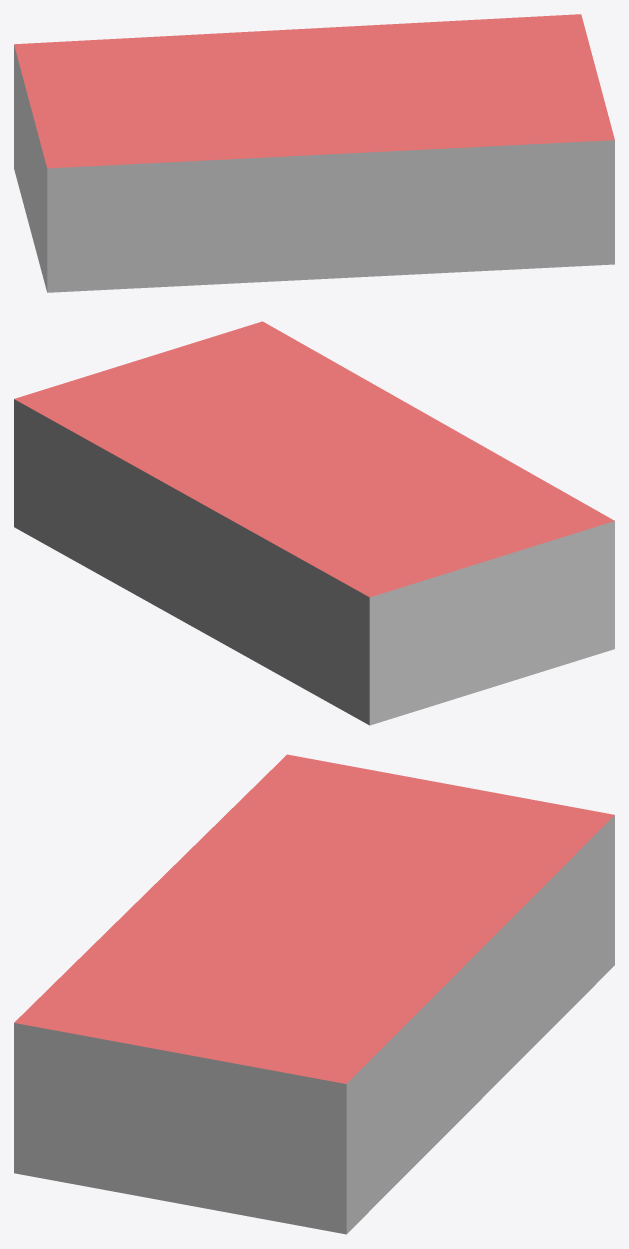
Rendered from DEBY_LOD2_4908045.gltf.
The picture shows the model from 3 angles, top to bottom: view 1: azimuth 30°, elevation 25°; view 2: azimuth 150°, elevation 25°; view 3: azimuth 270°, elevation 25°; orthographic projection. The views are drawn at different scales.
Parts seen in each view (by area): view 1: Z_UP; view 2: Z_UP; view 3: Z_UP.
Boxes of the visible parts, x1,y1,x2,y2 form: Z_UP: (14, 14, 614, 292); Z_UP: (14, 321, 614, 725); Z_UP: (14, 754, 614, 1234).
Bounding box in the file's own units: 11.68 × 2.49 × 9.
